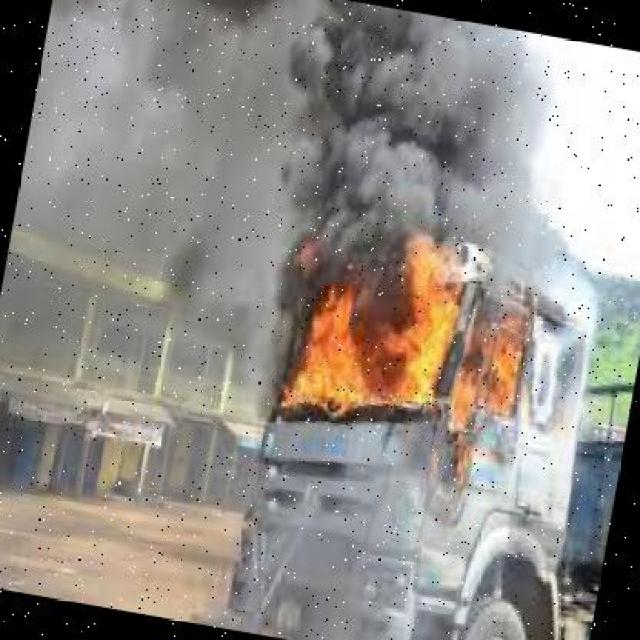fire: (257, 204, 474, 430), (442, 282, 543, 431)
